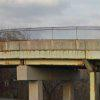Bridge: (3, 20, 94, 72)
